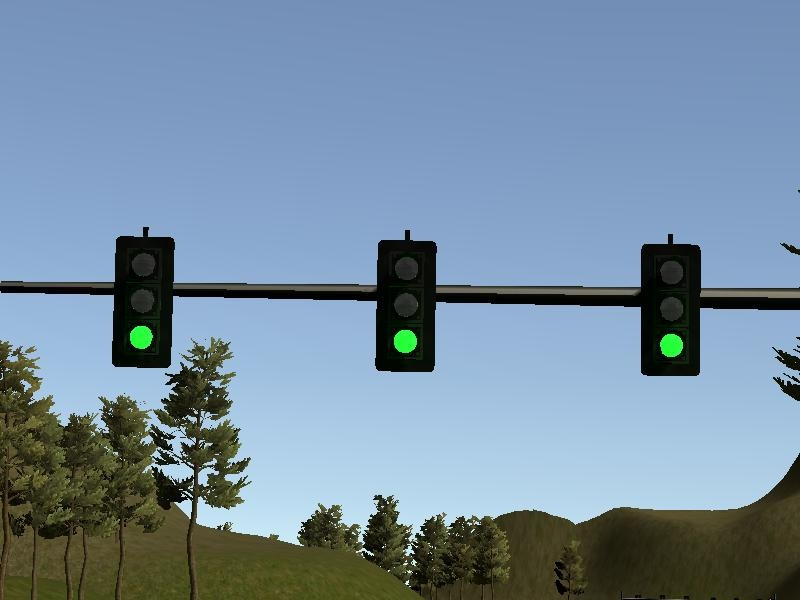green: (638, 244, 703, 377), (374, 240, 438, 373), (112, 236, 174, 370)
